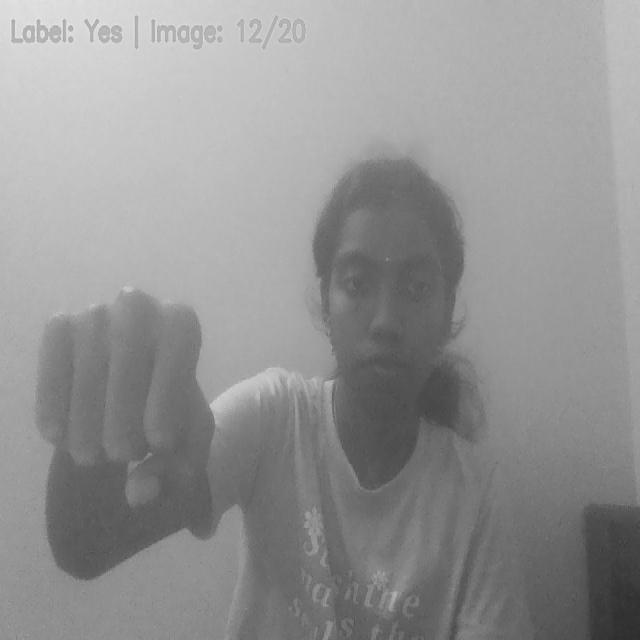Yes: (36, 290, 218, 514)
